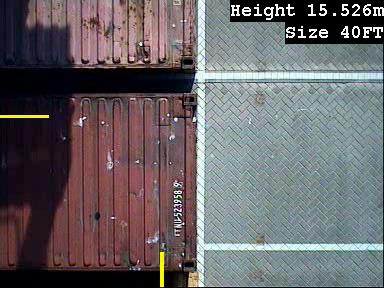groundmarker_2: (176, 158, 243, 194), (178, 209, 244, 245), (205, 13, 242, 76)
